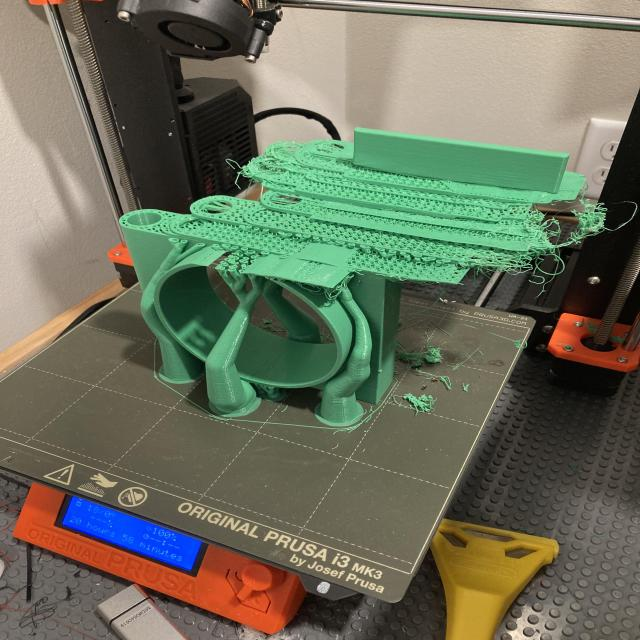spaghetti: (505, 182, 640, 294), (396, 348, 454, 376), (394, 390, 444, 419), (488, 333, 536, 361), (227, 154, 264, 186)
